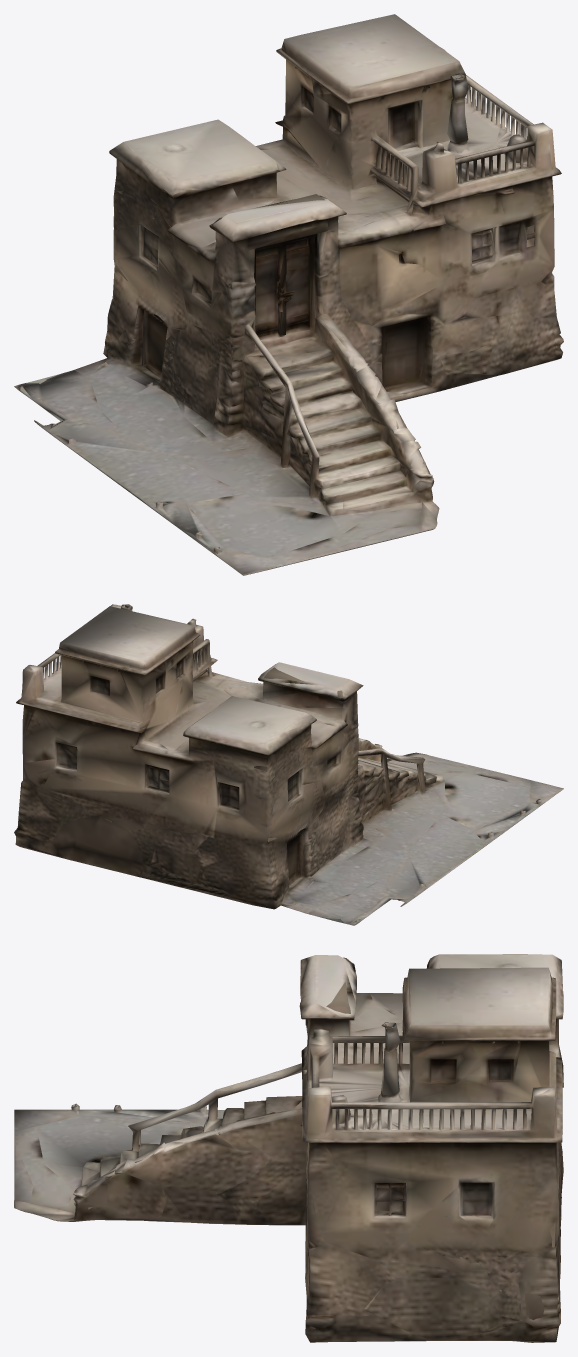
File: house_03.glb
3 views of the same model, one above another, from view 1: azimuth 30°, elevation 25°; view 2: azimuth 150°, elevation 25°; view 3: azimuth 270°, elevation 25° (orthographic). The views are drawn at different scales.
Visible parts, largest first — view 1: node_0; view 2: node_0; view 3: node_0.
Part boxes in pixels (bbox=[...]): node_0: bbox=[14, 14, 563, 575]; node_0: bbox=[14, 604, 563, 925]; node_0: bbox=[14, 954, 563, 1342].
Size of the model in its own units: 0.7914 by 0.4598 by 0.7784.
1 material, 1 textured.
